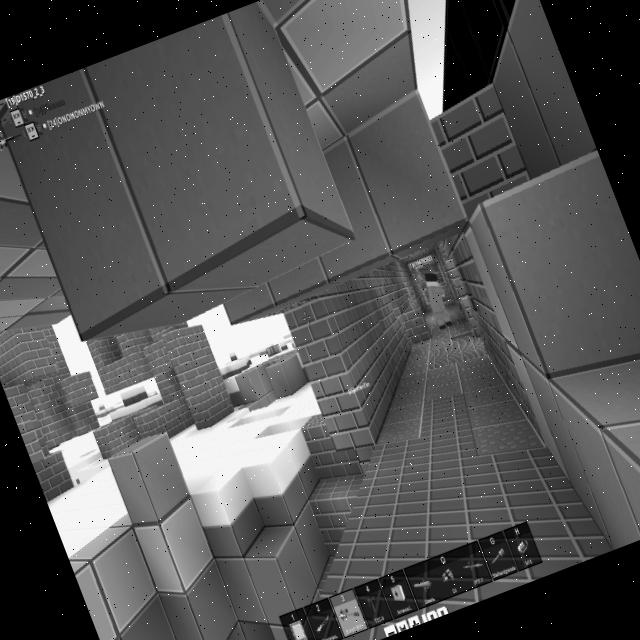Head: (423, 269, 440, 288)
Player: (418, 268, 458, 330)
